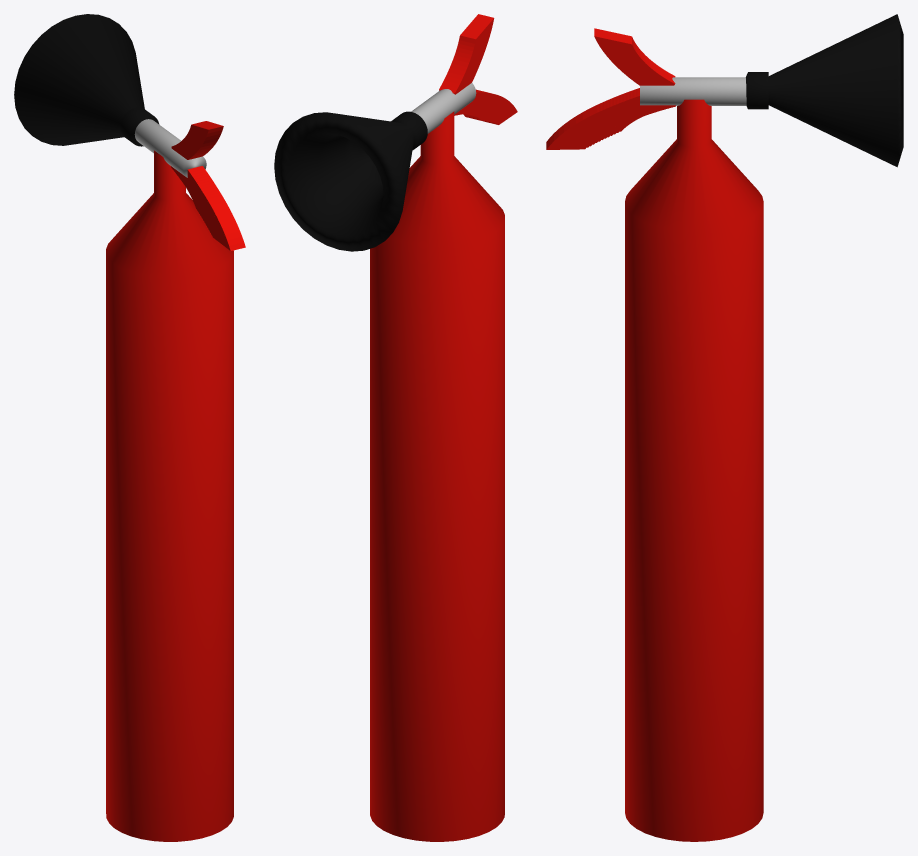
File: extincteur.fbx
3 views of the same model, side by side, from view 1: azimuth 30°, elevation 25°; view 2: azimuth 150°, elevation 25°; view 3: azimuth 270°, elevation 25° (orthographic). The views are drawn at different scales.
Visible parts, largest first — view 1: Cylinder, Cylinder.001, Cube, Cylinder.002, Cube.001; view 2: Cylinder, Cylinder.001, Cube.001, Cylinder.002, Cube; view 3: Cylinder, Cylinder.001, Cube, Cylinder.002, Cube.001.
Part boxes in pixels (x1,y1,x2,y2): Cylinder: (106, 150, 233, 841); Cylinder.001: (14, 14, 159, 146); Cube: (171, 166, 245, 250); Cylinder.002: (134, 119, 206, 177); Cube.001: (171, 121, 223, 159); Cylinder: (370, 111, 504, 841); Cylinder.001: (274, 111, 427, 251); Cube.001: (439, 14, 494, 94); Cylinder.002: (411, 83, 476, 133); Cube: (454, 89, 517, 124); Cylinder: (625, 99, 763, 841); Cylinder.001: (746, 14, 903, 167); Cube: (546, 88, 675, 149); Cylinder.002: (640, 77, 746, 105); Cube.001: (594, 28, 675, 85).
Size of the model in its own units: 300 by 1705 by 698.
